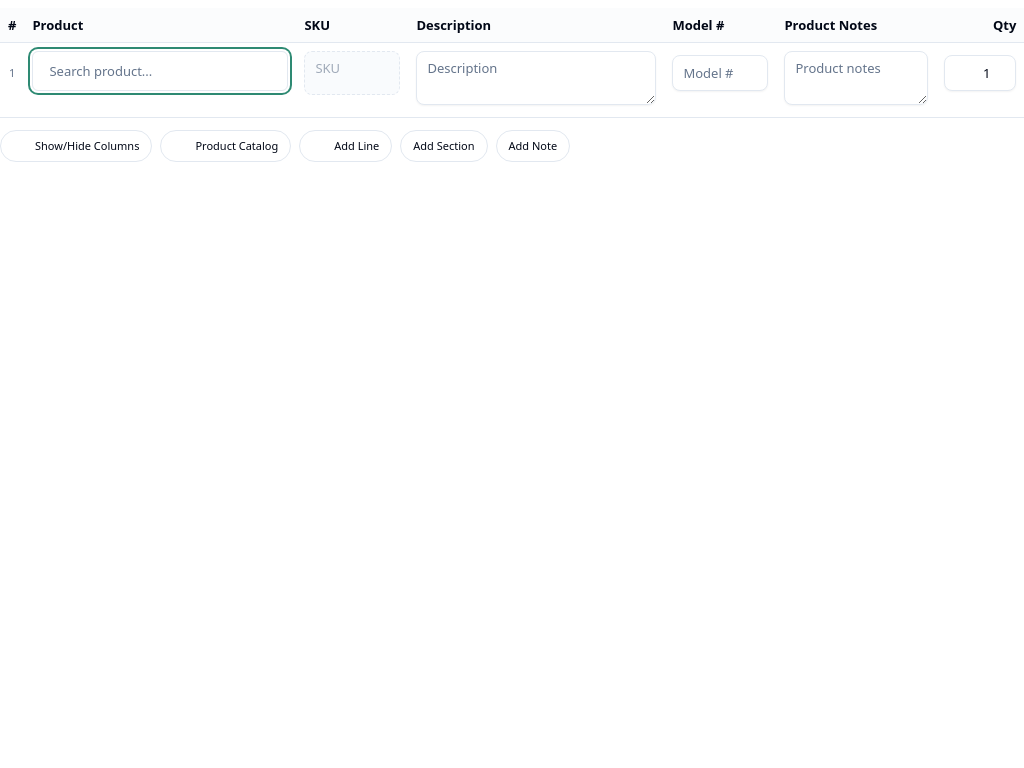
#319 keyboard-first sales line grid › typing a SKU in the product cell and pressing Enter selects the exact match at once
# Typing on the closed cell opens the search seeded with the typed key.
Press Y in the dropdown labelled "Search product...", box [32,51,288,91]
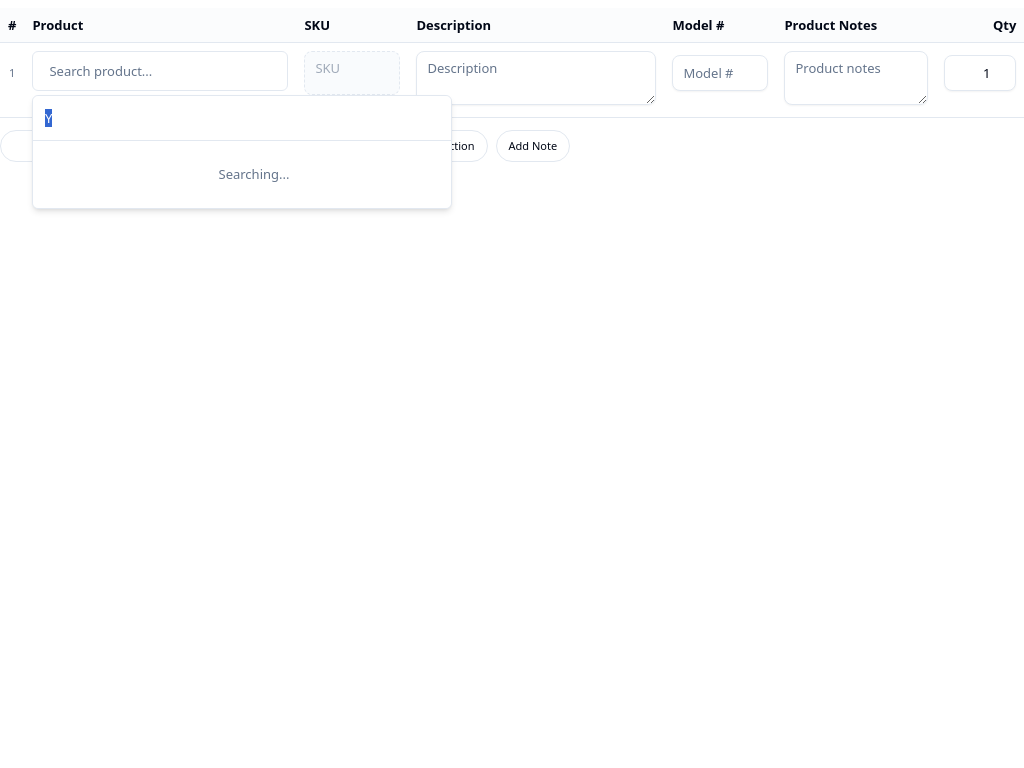
Expected: the dropdown with placeholder "Search name, SKU, barcode, lot or serial..." holds "Y"
# A scanner types the rest and sends Enter before any debounce settles.
Replace the text in the dropdown with placeholder "Search name, SKU, barcode, lot or serial..." with "YRN-1" at [242, 118], box [45,96,439,140]
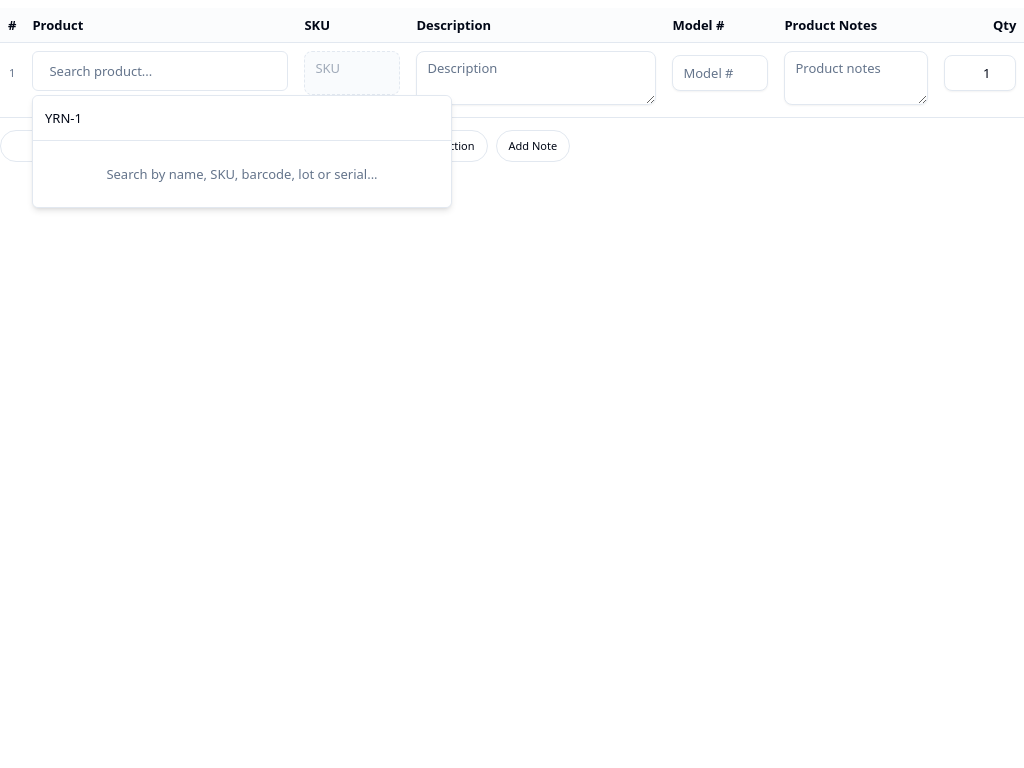
Press Enter in the dropdown with placeholder "Search name, SKU, barcode, lot or serial...", box [45,96,439,140]
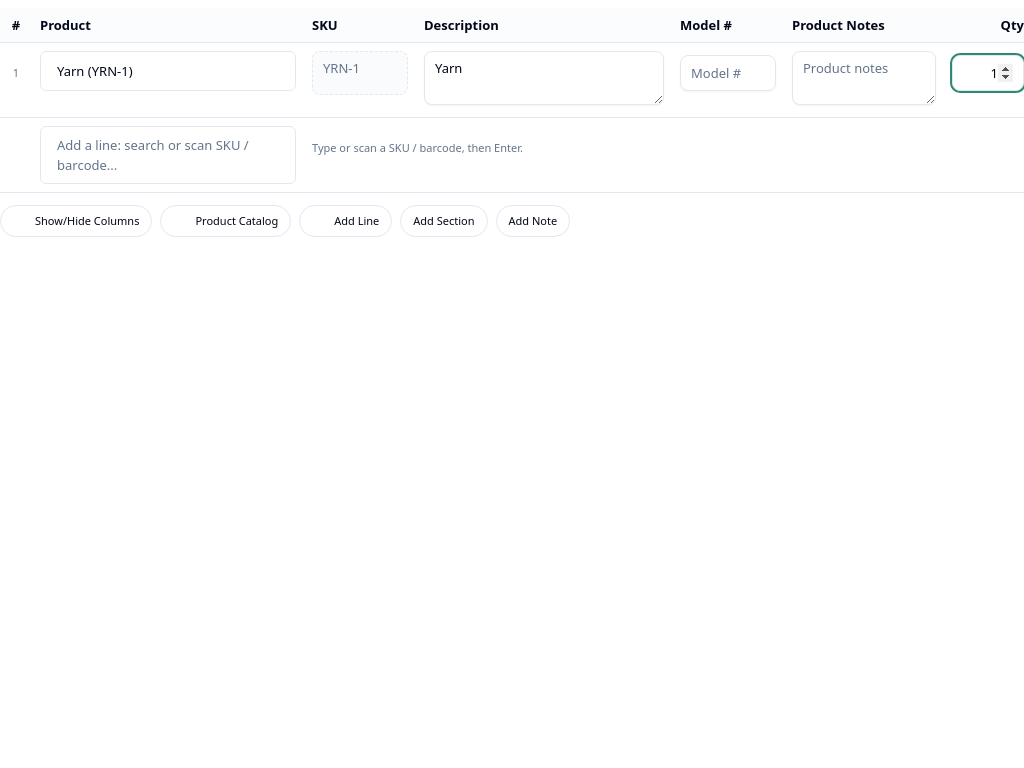
Expected: the text "YRN-1" is shown, [312,51,408,95]
